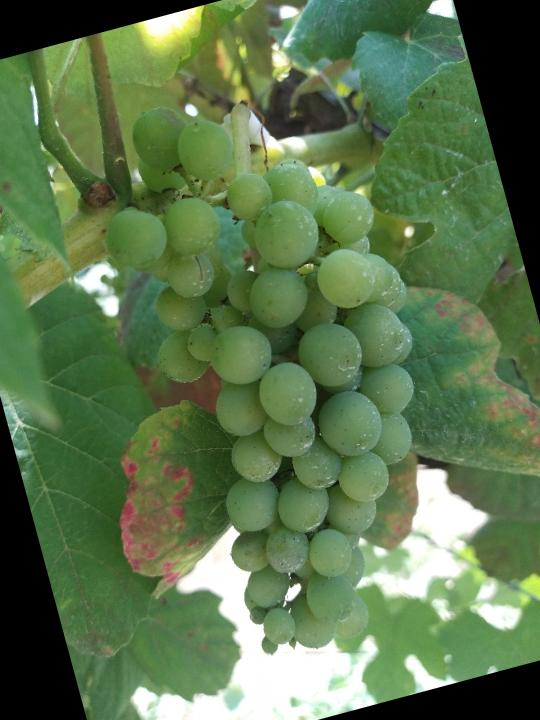grape: (70, 53, 495, 684)
